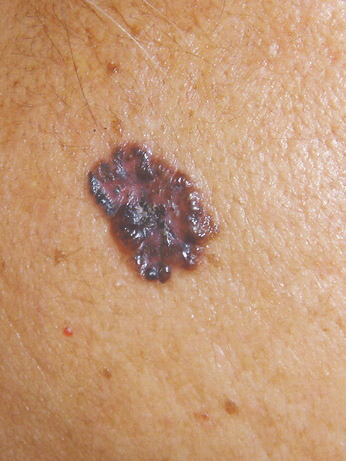Melanoma: (87, 141, 220, 283)
